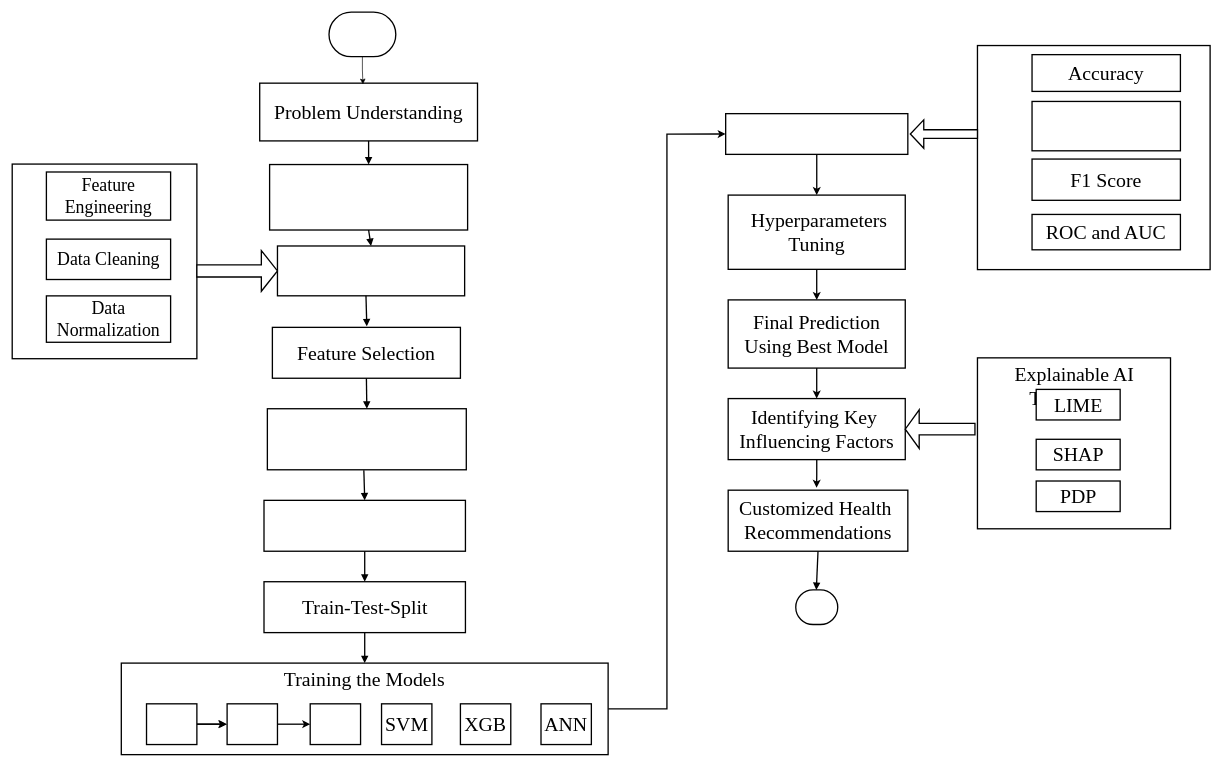
This 1222x766 diagram has some shape labels left out. Each missing label, with the centre of its shape:
"Data Collection" goes at [368,197].
"Data Preprocessing" goes at [370,270].
"DT" goes at [252,724].
"End" goes at [816,607].
"Handling Imbalanced Dataset" goes at [366,439].
"KNN" goes at [171,724].
"Model Evaluation" goes at [816,134].
"Recall Precision" goes at [1106,125].
"RF" goes at [335,724].
"Start" goes at [362,34].
"Target Column Labeling" goes at [364,525].
